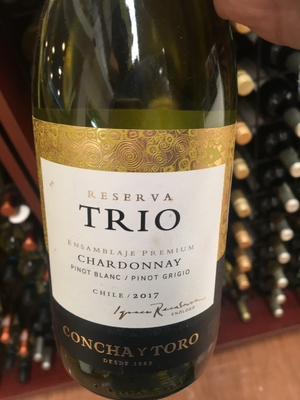trio chardonnay: (31, 6, 243, 400)
